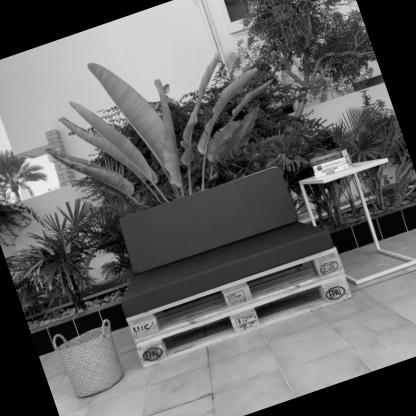BoxFace: (128, 245, 346, 347), (133, 271, 357, 369)
